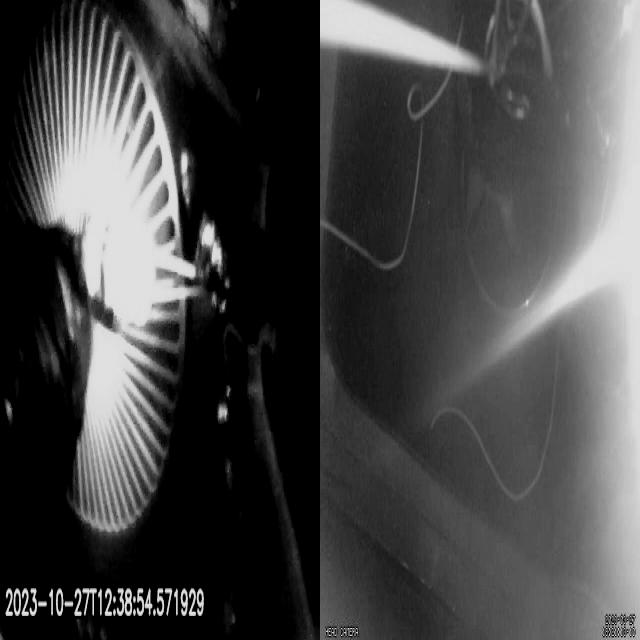head: (82, 211, 156, 326)
